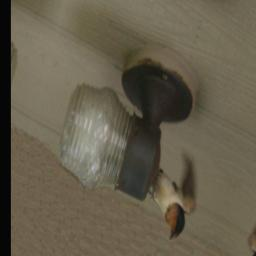Swallow: (140, 138, 209, 250)
